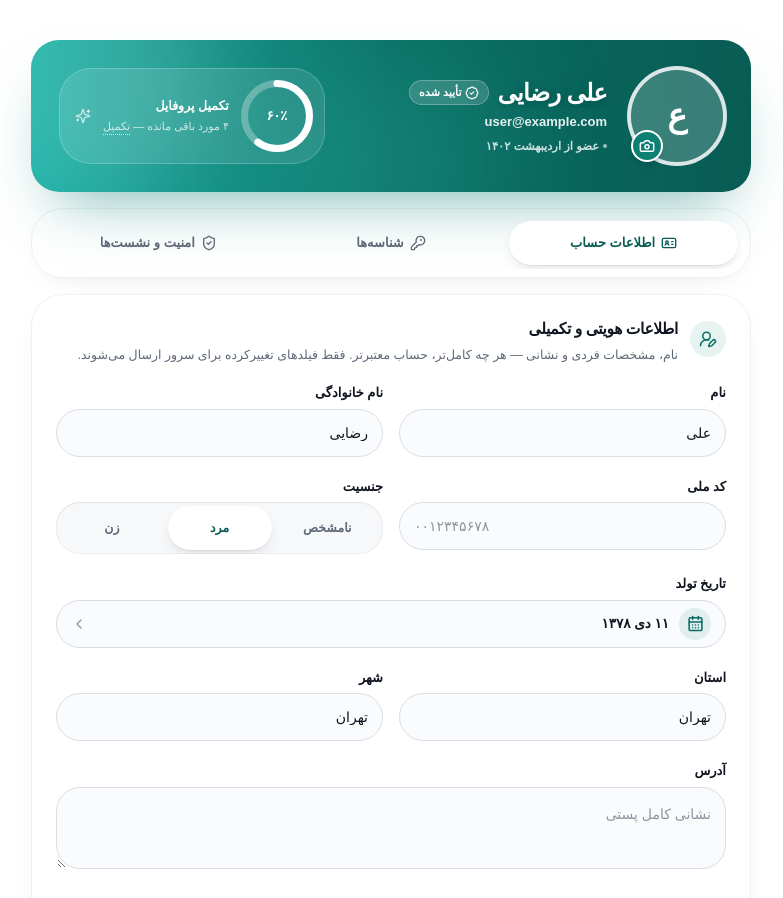
it: ویرایش هویتی — PATCHِ تدریجی دقیق › کد ملیِ غیر ده‌رقمی سمت کلاینت گرفته می‌شود (بدون شبکه)
expect the field showing "علی" is shown: met, box [399,409,726,457]
In the field with id "acc-national-code": (562,526) [399,502,726,550], type "123"
(page scrolled)
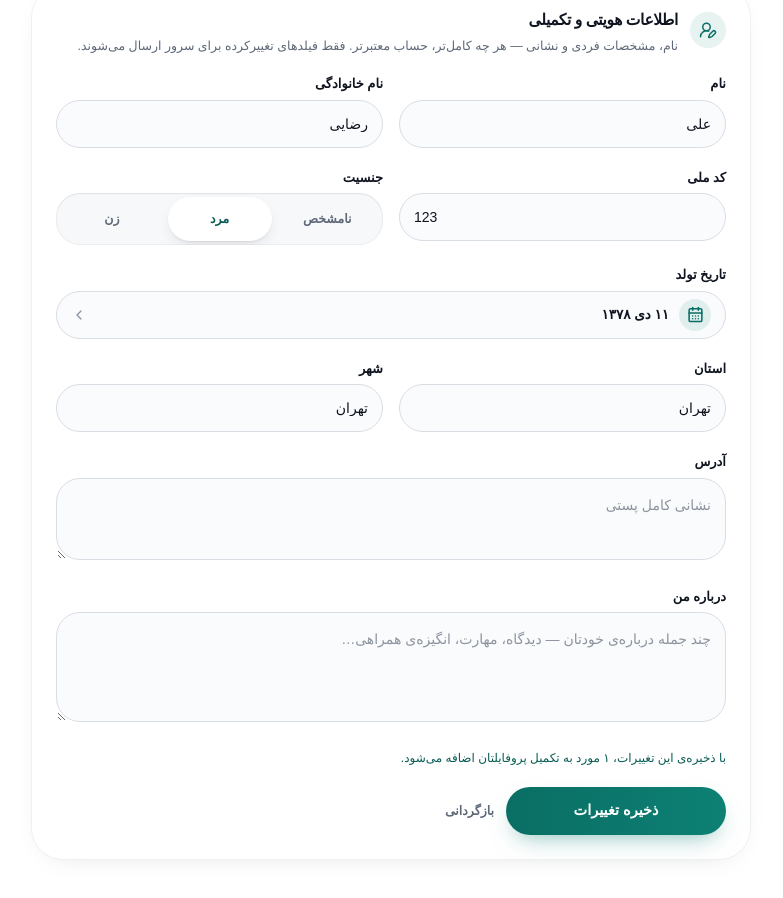
Click the button "ذخیره تغییرات": (616,811) [506,787,726,835]
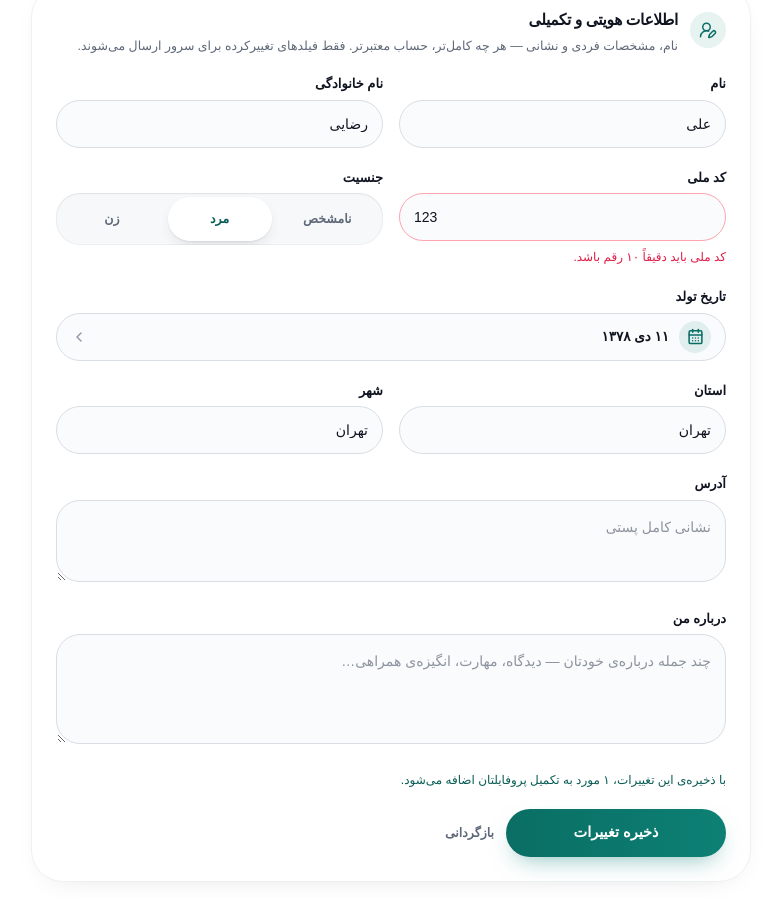
expect the text "کد ملی باید دقیقاً ۱۰ رقم باشد." is shown: met, box [573,250,726,264]
